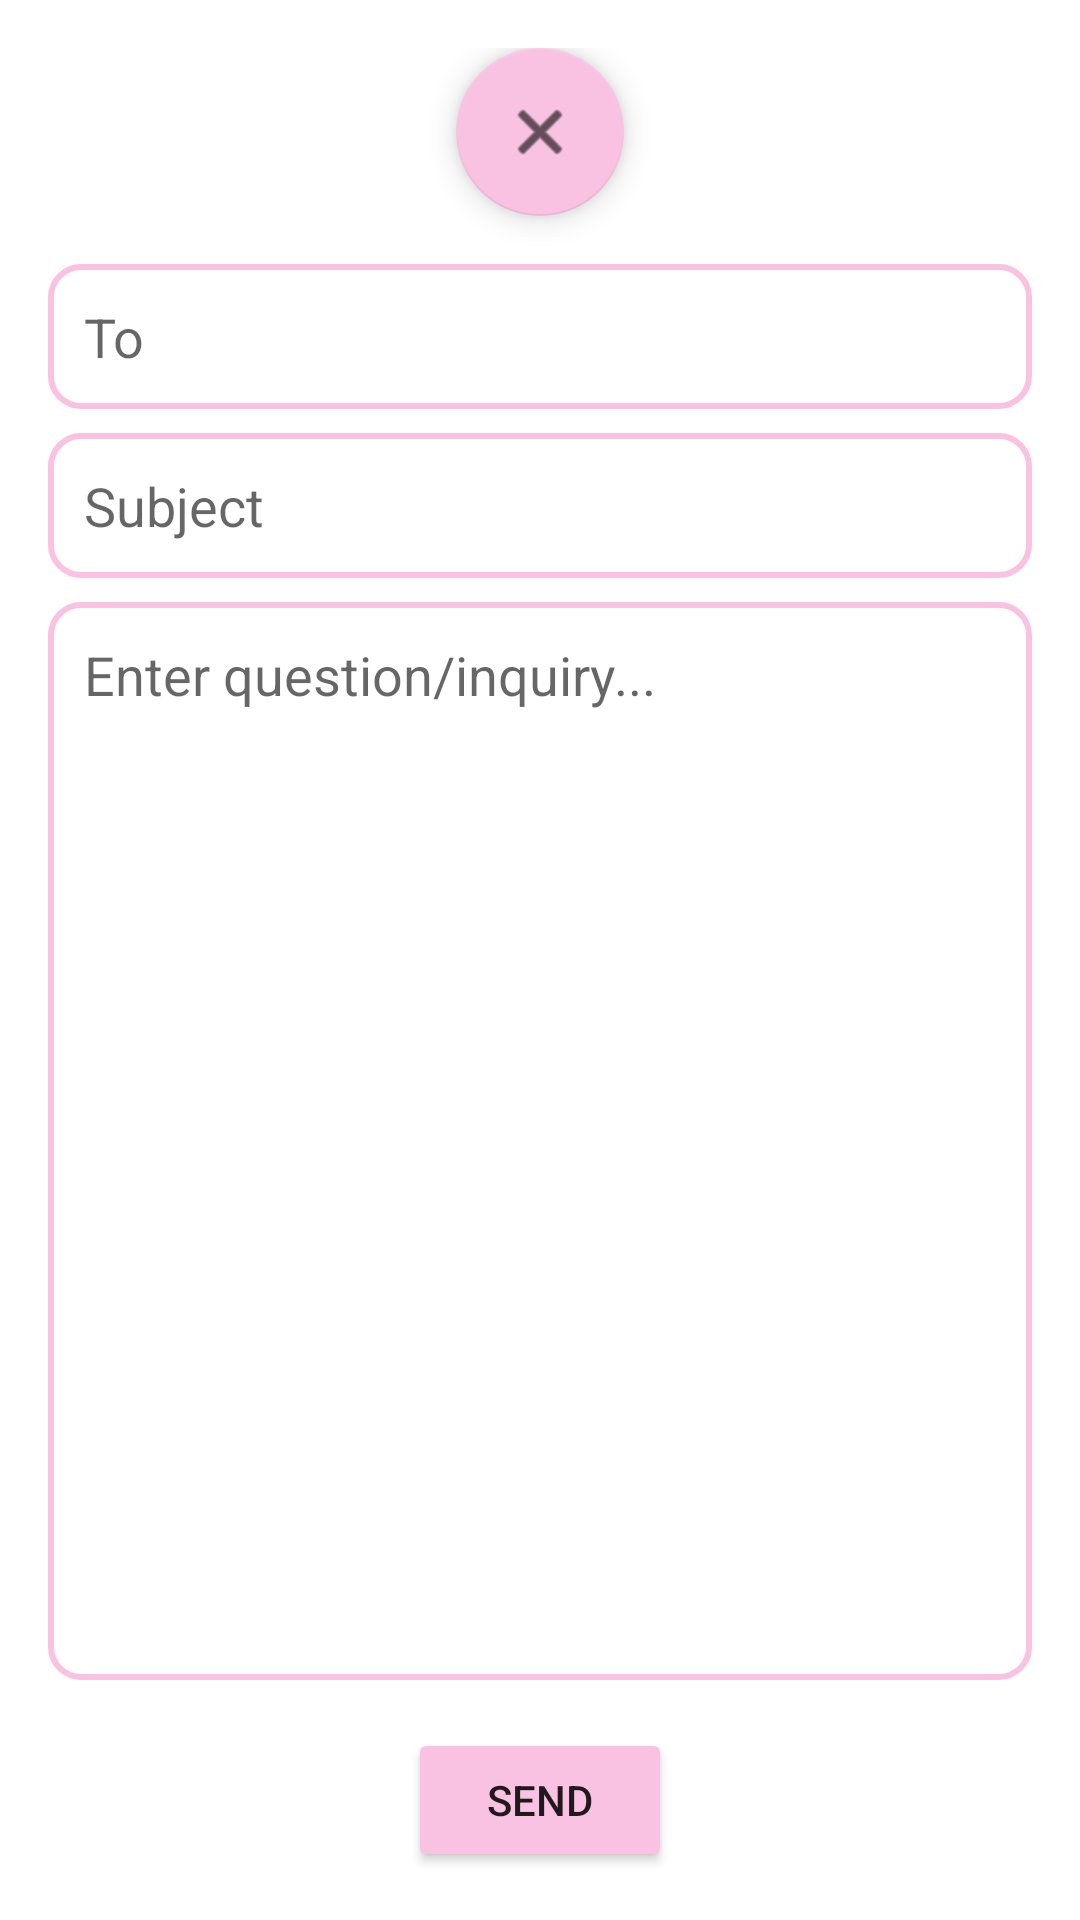

Screen size 1080px×1920px. Icon name, then its center in pixels as [x,y]:
close clear cancel: [540,132]
